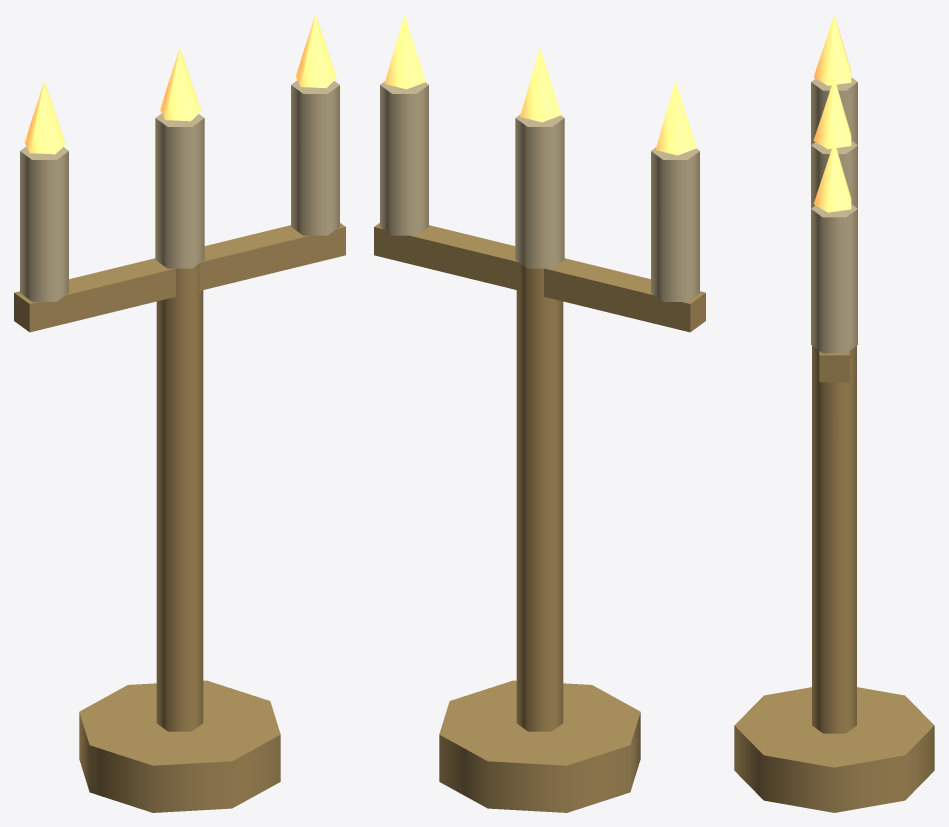
The model's file is candelabrum.glb.
The picture shows the model from 3 angles, left to right: view 1: azimuth 30°, elevation 25°; view 2: azimuth 150°, elevation 25°; view 3: azimuth 270°, elevation 25°; orthographic projection. The views are drawn at different scales.
Parts seen in each view (by area): view 1: wax-candle (×3), candlestick-stem, candlestick-foot, candlestick-crossbar, candle-flame (×3); view 2: wax-candle (×3), candlestick-stem, candlestick-foot, candlestick-crossbar, candle-flame (×3); view 3: candlestick-foot, candlestick-stem, wax-candle (×3), candle-flame (×3), candlestick-crossbar.
Boxes of the visible parts, x1=… form: wax-candle (×3): x1=20, y1=80, x2=339, y2=301; candlestick-stem: x1=156, y1=263, x2=203, y2=731; candlestick-foot: x1=79, y1=680, x2=280, y2=812; candlestick-crossbar: x1=14, y1=223, x2=345, y2=332; candle-flame (×3): x1=24, y1=14, x2=336, y2=154; wax-candle (×3): x1=380, y1=81, x2=699, y2=301; candlestick-stem: x1=516, y1=263, x2=563, y2=731; candlestick-foot: x1=439, y1=680, x2=640, y2=812; candlestick-crossbar: x1=374, y1=223, x2=705, y2=332; candle-flame (×3): x1=384, y1=14, x2=696, y2=155; candlestick-foot: x1=734, y1=687, x2=934, y2=812; candlestick-stem: x1=812, y1=345, x2=856, y2=733; wax-candle (×3): x1=811, y1=77, x2=857, y2=353; candle-flame (×3): x1=813, y1=14, x2=851, y2=212; candlestick-crossbar: x1=819, y1=351, x2=849, y2=382.
Size of the model in its own units: 0.7 by 1.53 by 0.4.
